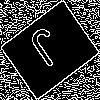J: (25, 25, 72, 77)
